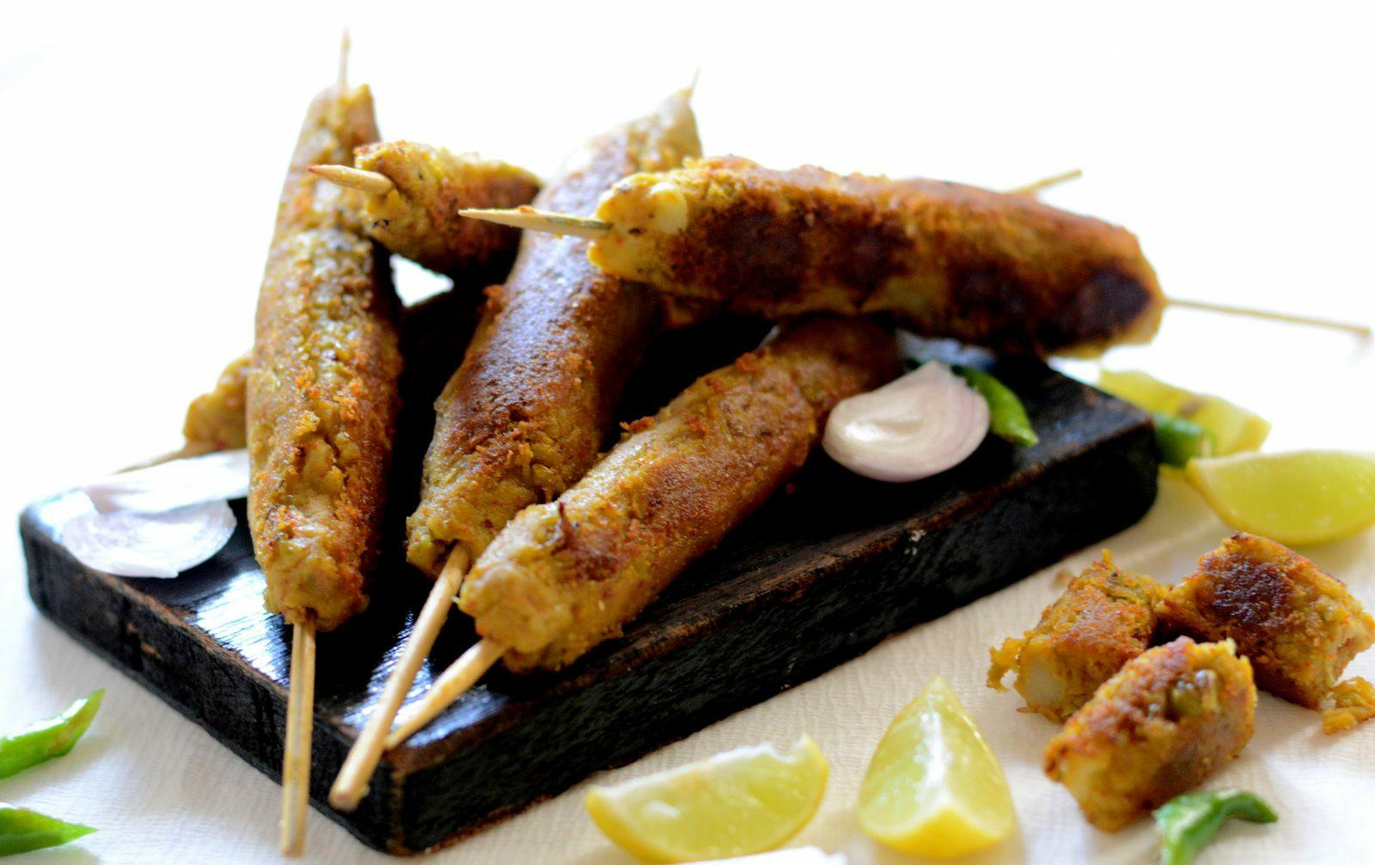Kebab: (460, 319, 893, 671), (408, 85, 700, 579), (588, 156, 1166, 358), (247, 84, 402, 621), (356, 143, 544, 282)
